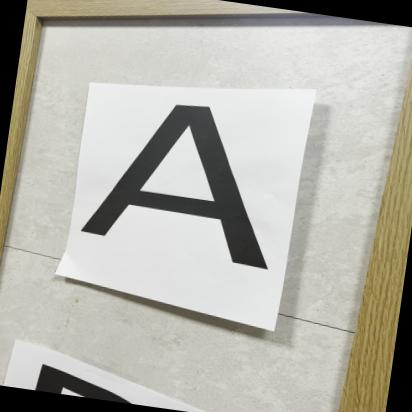seat: (70, 87, 295, 288)
